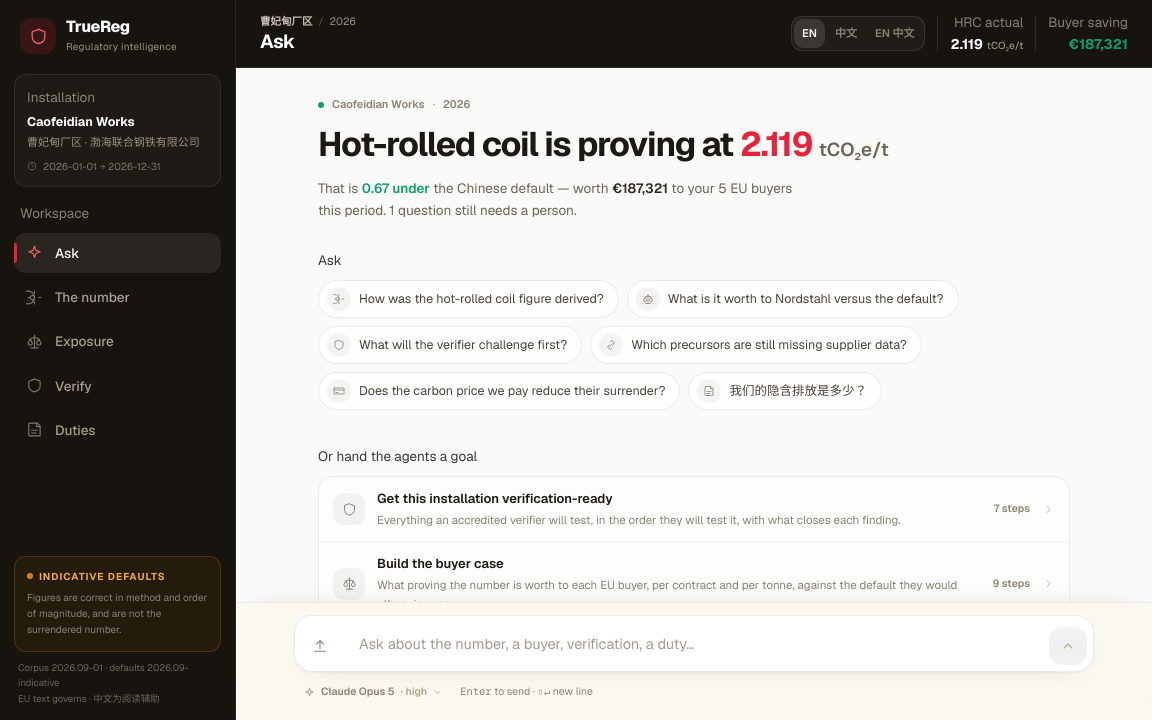
Test: the TrueReg workspace › answers a typed question from the engine alone, with its trace
In the text box named "Ask the agents": [694, 644] box [347,622,1041,665], type "what is our hot rolled coil embedded emissions figure?"
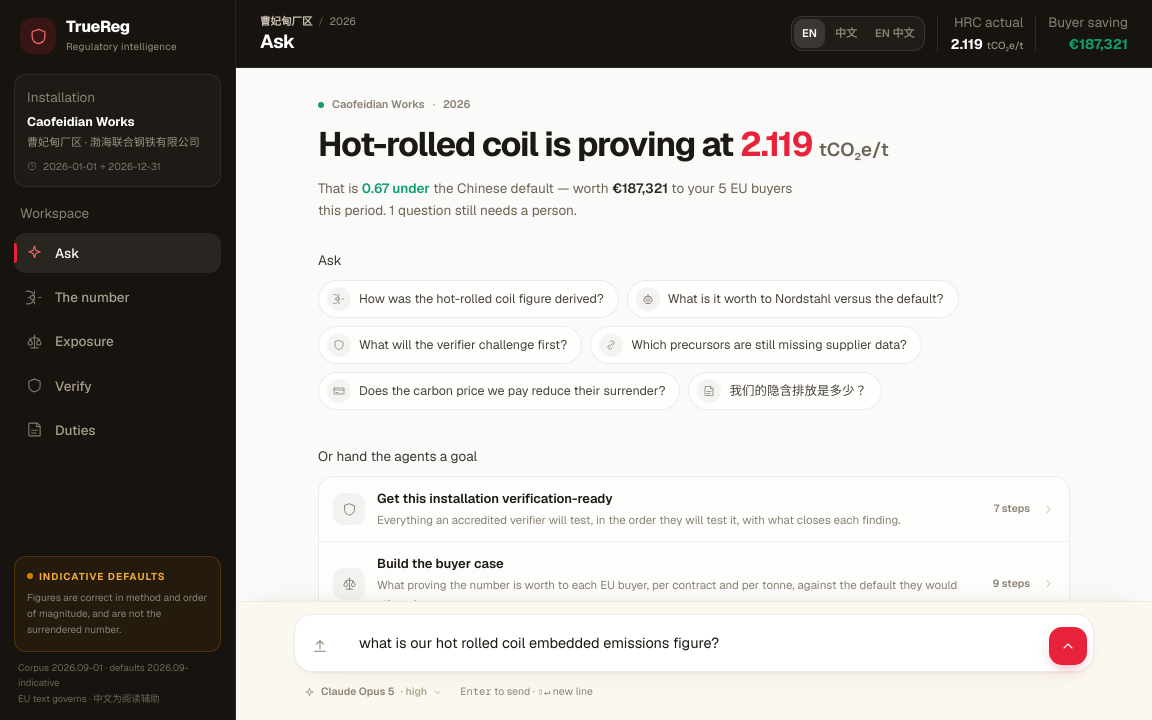
Press Enter in the text box named "Ask the agents", box [347,621,1041,665]
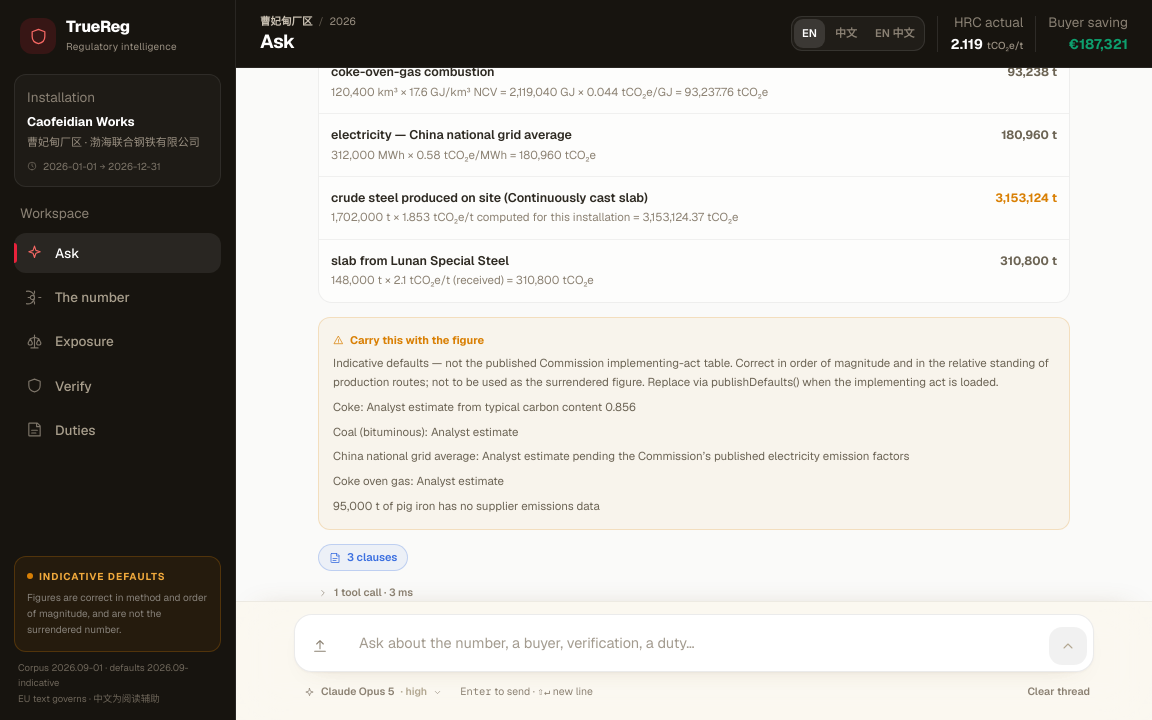
Expected: the button "1 tool call · 3 ms" is shown, [318,585,413,601]
